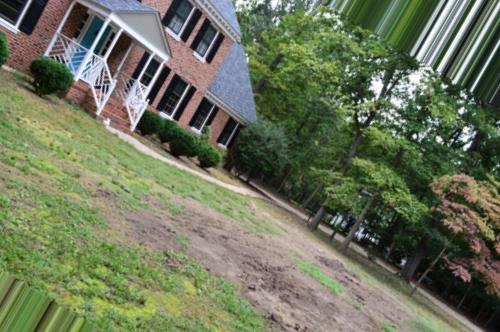patch: (206, 237, 279, 282), (285, 281, 339, 326), (342, 303, 369, 332)
